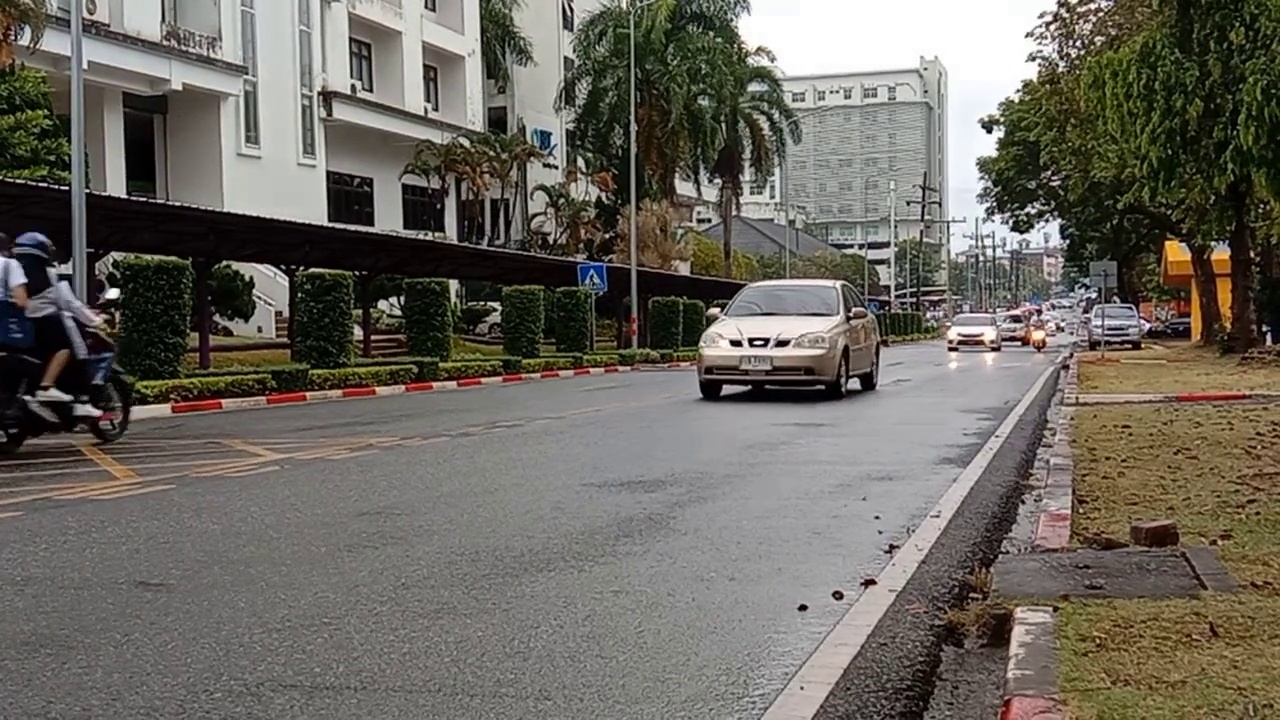License Plate: (737, 353, 779, 373)
